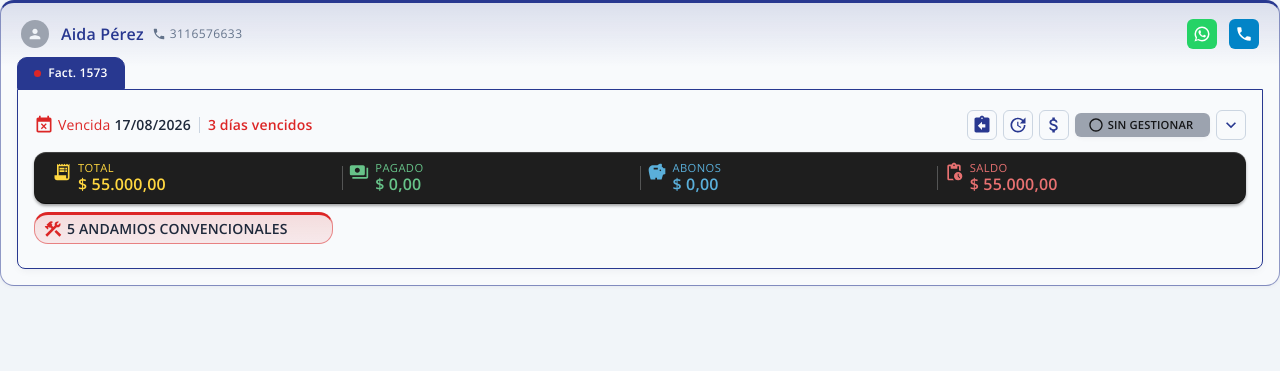
Test case: ClienteSeguimientoCard — lo que muestra › los días vencidos cuentan desde el último plazo, que dice la segunda casilla
Click the button named "Mostrar factura" at {"x": 1231, "y": 125}, box [1216,110,1246,140]
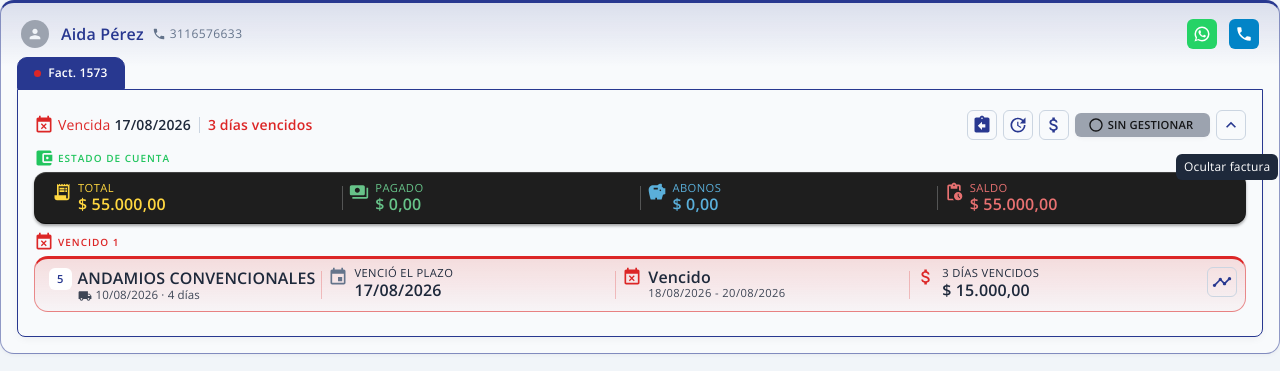
Expected: the text "3 días vencidos" in the row of "Vencida" is shown, [208,115,312,135]
Result: the text "$ 15.000,00" is shown at [942,280,1039,300]
Result: the text "Venció el plazo" is shown at [354,267,453,280]
